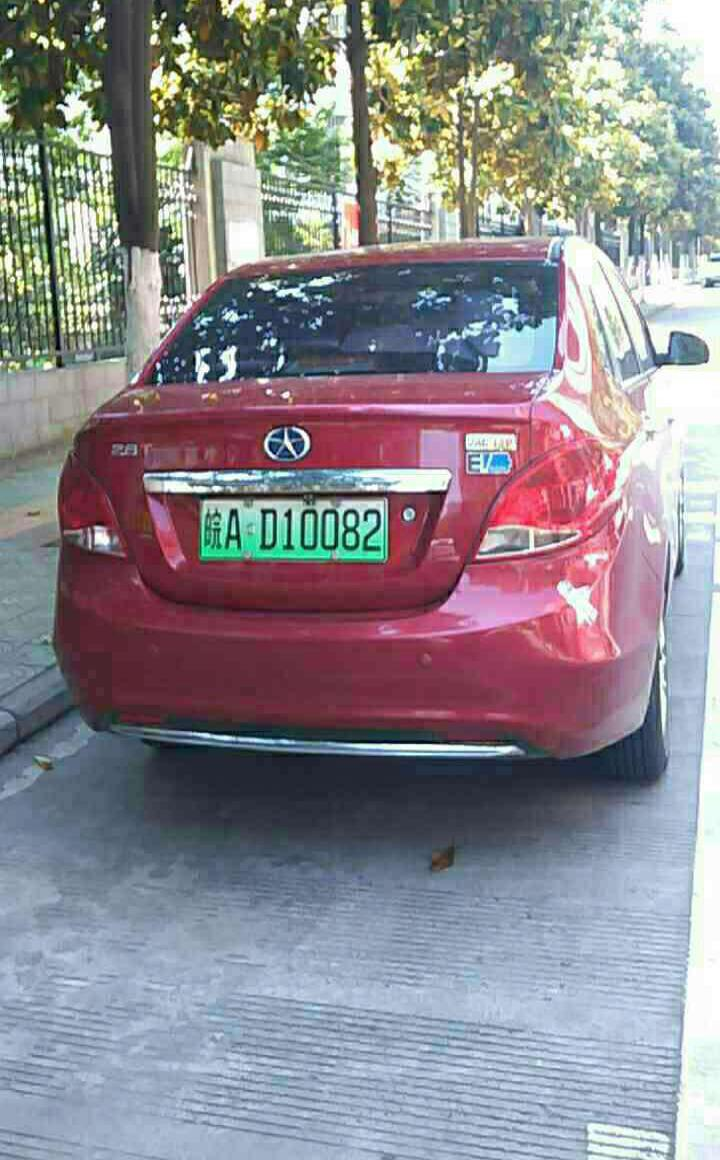car: (194, 494, 389, 558)
